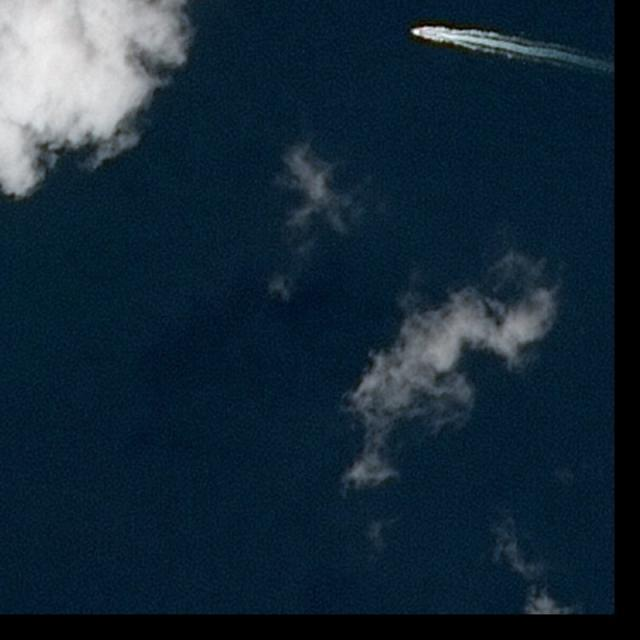ship: (410, 29, 421, 36)
